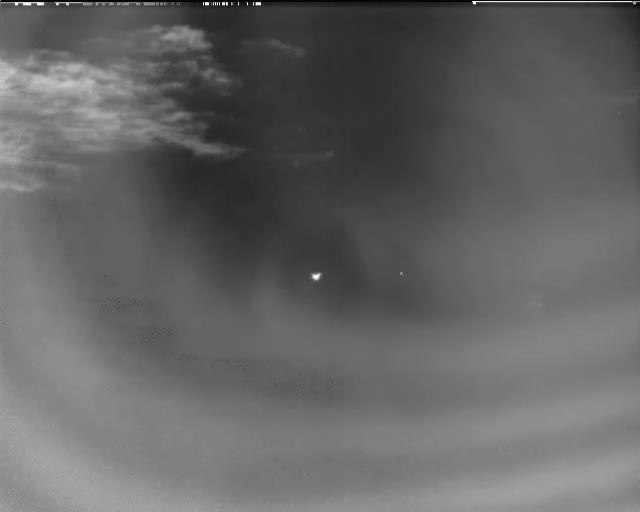uav: (311, 271, 324, 283)
